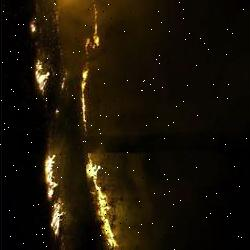fire: (27, 0, 122, 250)
